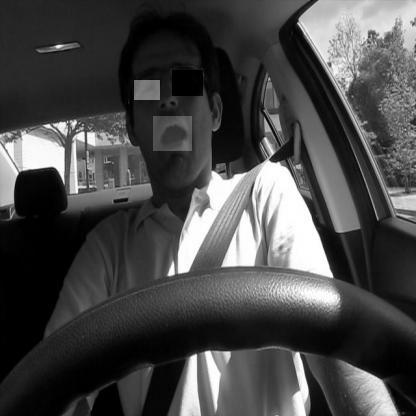seatbelt: (111, 0, 308, 416)
